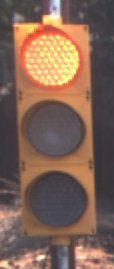Red: (3, 9, 109, 248)
